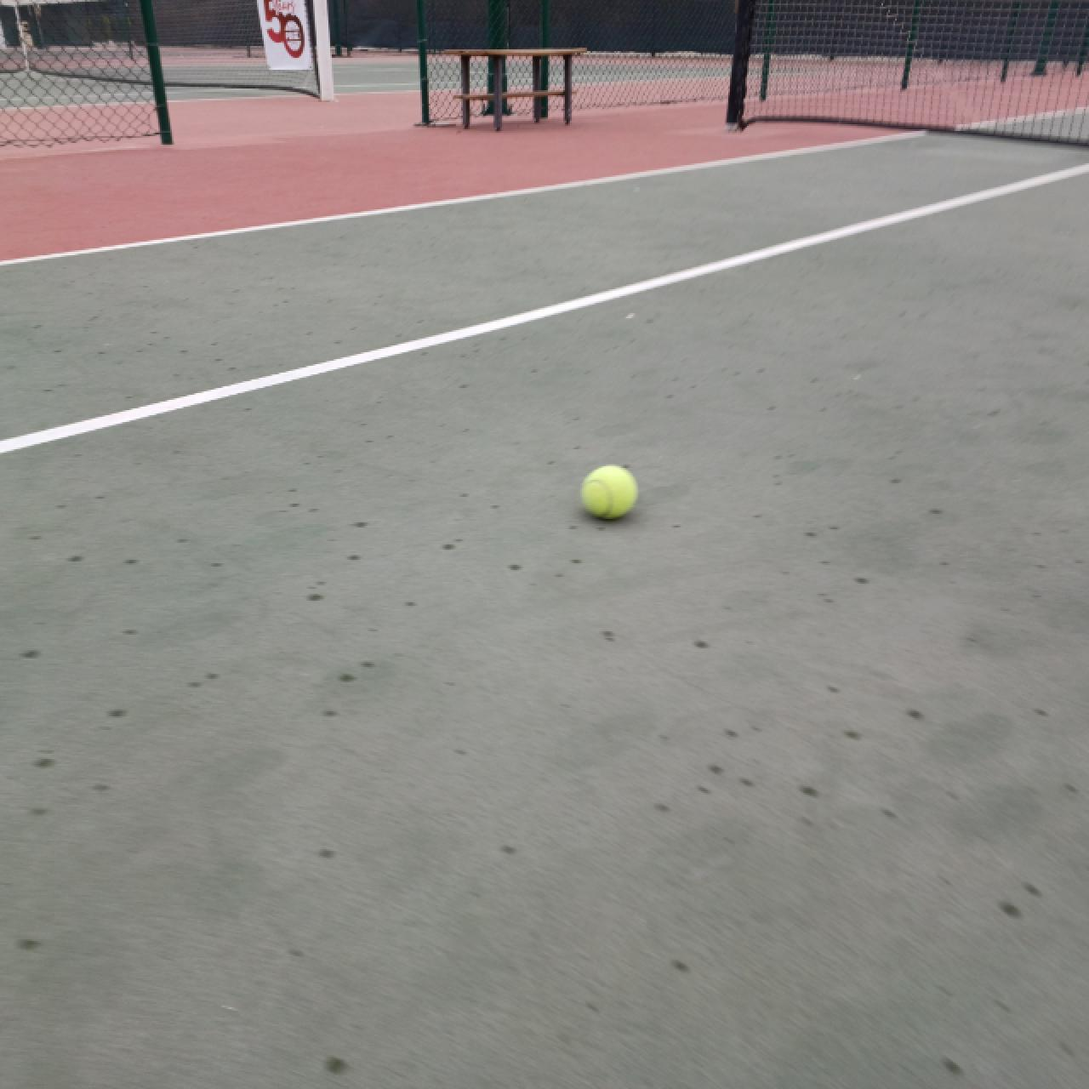tennis-ball: (583, 462, 639, 521)
